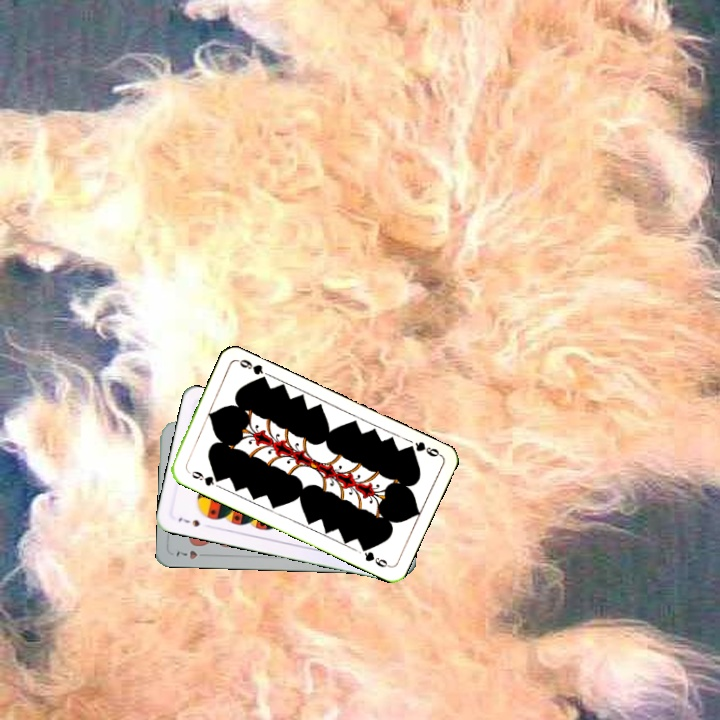G9: (183, 465, 223, 489), (402, 437, 443, 459)
H7: (172, 547, 200, 562)
S7: (174, 513, 202, 529)
